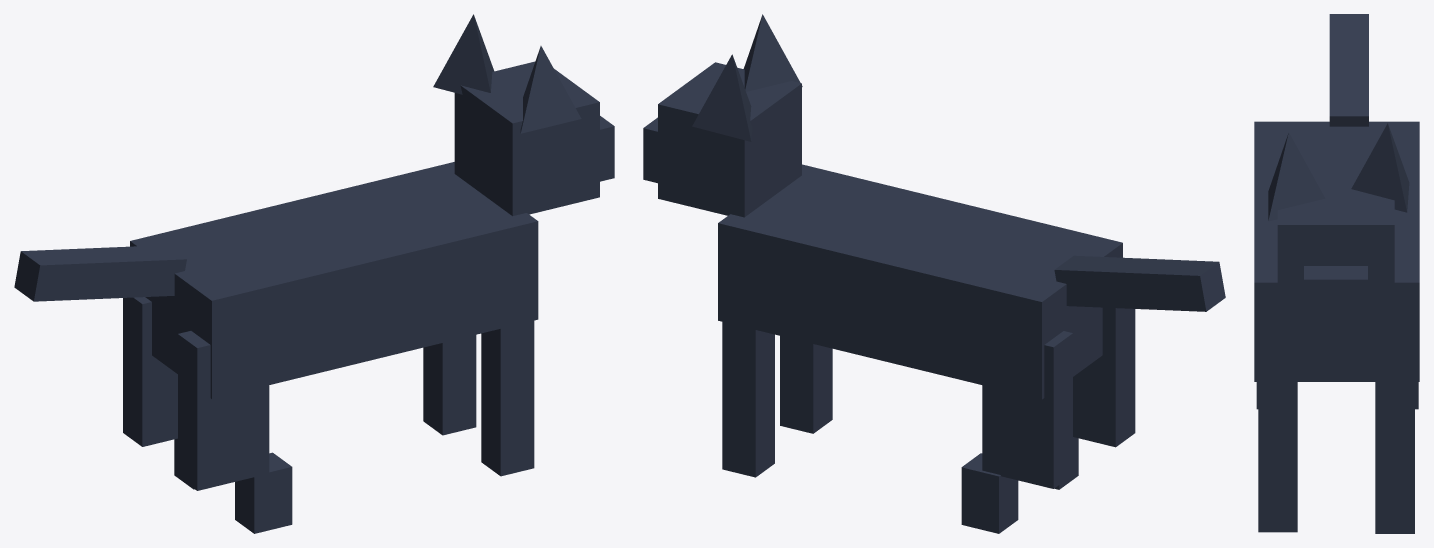
Rendered from cat.fbx.
3 renders of one model, left to right at view 1: azimuth 30°, elevation 25°; view 2: azimuth 150°, elevation 25°; view 3: azimuth 270°, elevation 25°, orthographic.
Parts seen in each view (by area): view 1: Cone; view 2: Cone; view 3: Cone.
Boxes of the visible parts, x1=… form: Cone: x1=14, y1=14, x2=614, y2=533; Cone: x1=643, y1=14, x2=1225, y2=533; Cone: x1=1254, y1=14, x2=1419, y2=533.
Bounding box in the file's own units: 335 × 230 × 83.59.
